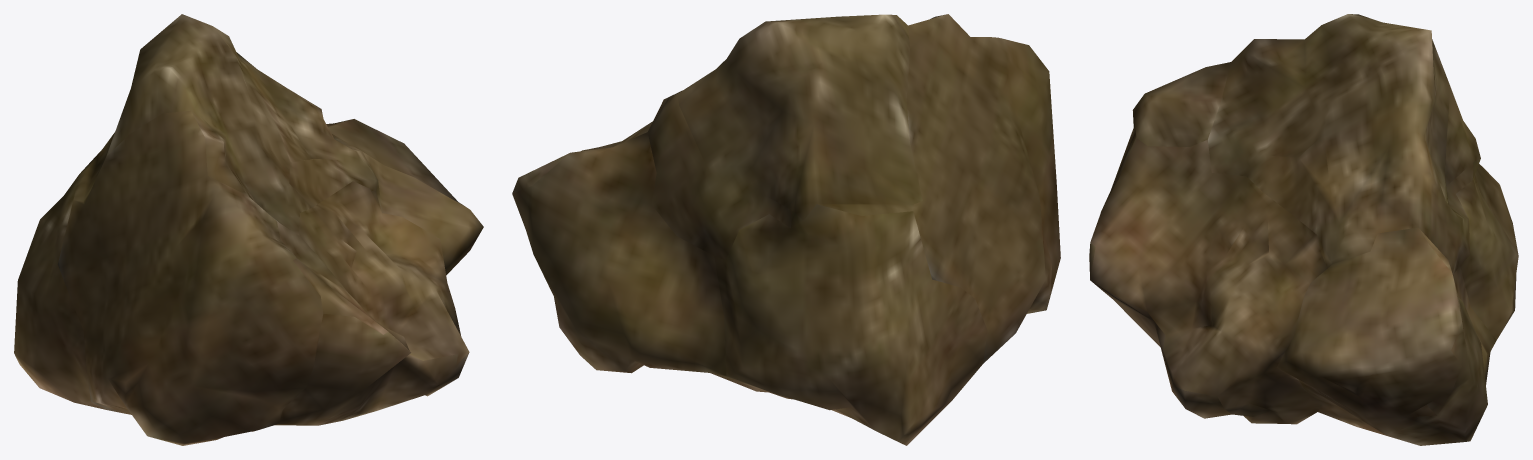
File: rock_moss_set_01_rock04.glb
3 renders of one model, left to right at view 1: azimuth 30°, elevation 25°; view 2: azimuth 150°, elevation 25°; view 3: azimuth 270°, elevation 25°, orthographic. The views are drawn at different scales.
Parts seen in each view (by area): view 1: rock_moss_set_01_rock04; view 2: rock_moss_set_01_rock04; view 3: rock_moss_set_01_rock04.
Part boxes in pixels (box(x1,y1,x2,y2)): rock_moss_set_01_rock04: box(14, 14, 483, 445); rock_moss_set_01_rock04: box(512, 14, 1060, 445); rock_moss_set_01_rock04: box(1089, 14, 1518, 445).
Size of the model in its own units: 2.12 by 1.76 by 1.96.
Materials: 1 (1 with a texture image).
